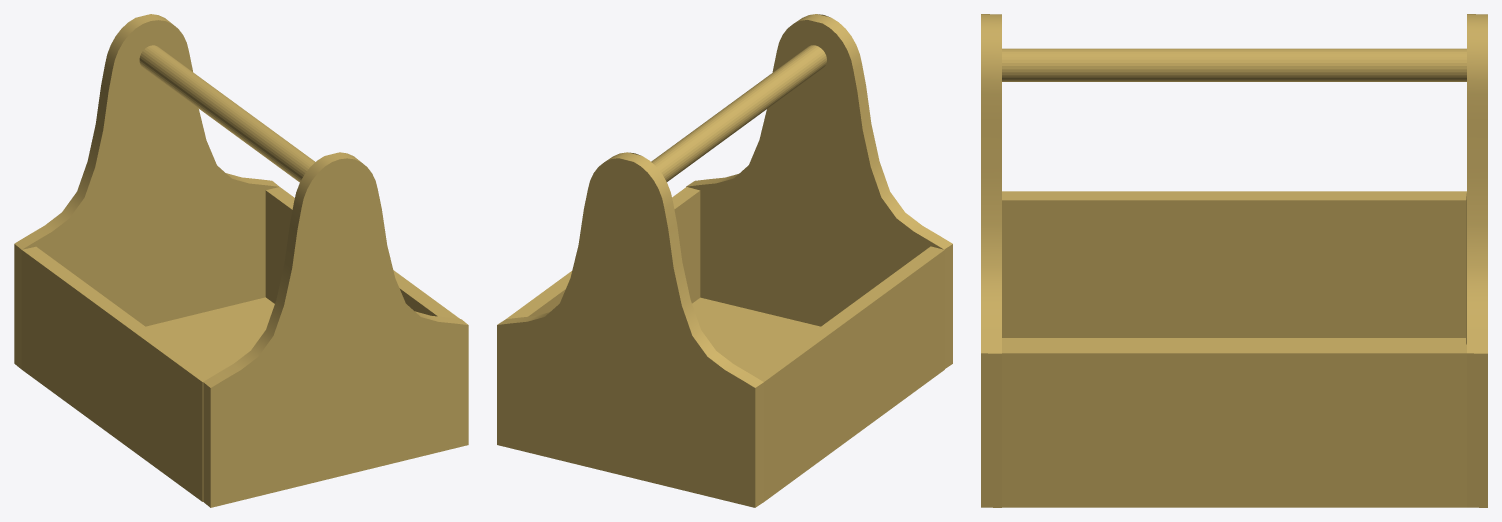
File: SM_ToolBox.fbx
3 views of the same model, side by side, from view 1: azimuth 30°, elevation 25°; view 2: azimuth 150°, elevation 25°; view 3: azimuth 270°, elevation 25° (orthographic). The views are drawn at different scales.
Visible parts, largest first — view 1: SM_ToolBox; view 2: SM_ToolBox; view 3: SM_ToolBox.
Part boxes in pixels (x1,y1,x2,y2): SM_ToolBox: (14,14,468,507); SM_ToolBox: (497,14,952,507); SM_ToolBox: (981,14,1487,507).
Size of the model in its own units: 20.99 by 24.6 by 27.7.
